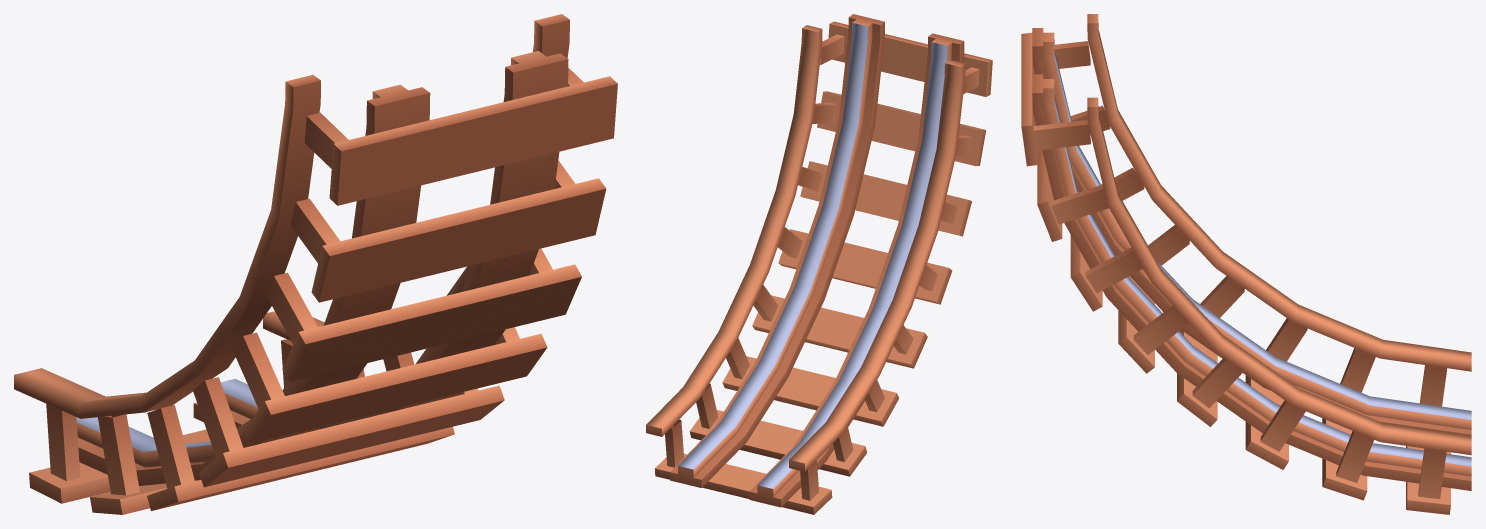
Rendered from coaster-wood-straight-bend.glb.
The picture shows the model from 3 angles, left to right: view 1: azimuth 30°, elevation 25°; view 2: azimuth 150°, elevation 25°; view 3: azimuth 270°, elevation 25°; orthographic projection. The views are drawn at different scales.
Parts seen in each view (by area): view 1: coaster-wood-straight-bend; view 2: coaster-wood-straight-bend; view 3: coaster-wood-straight-bend.
Boxes of the visible parts, box(x1,y1,x2,y2) form: coaster-wood-straight-bend: box(14, 14, 617, 514); coaster-wood-straight-bend: box(646, 14, 992, 514); coaster-wood-straight-bend: box(1021, 14, 1471, 514).
Size of the model in its own units: 1 by 2.05 by 2.05.
1 material, 1 textured.
